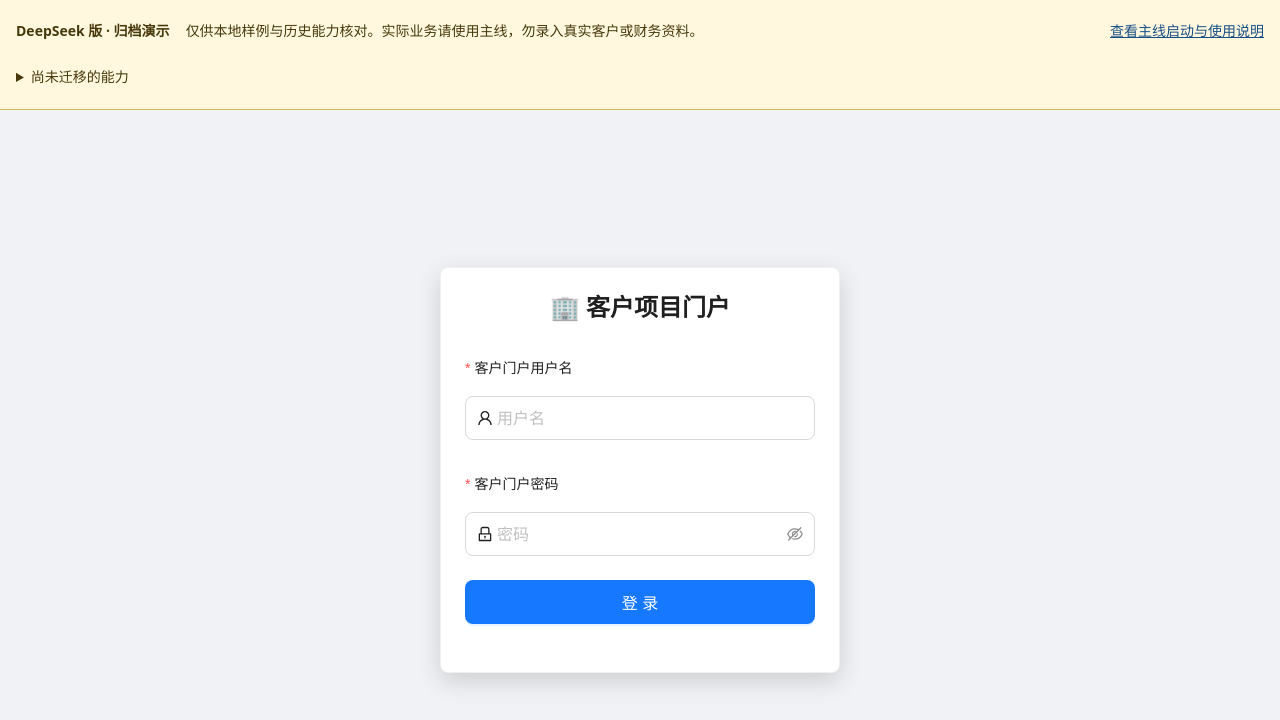
it: 真实 App 登录与门户入口的归档说明 › also appears on the separate portal login and retains unported capabilities
Expected: the field labelled "客户门户用户名" is shown, top-left (497, 404), bottom-right (803, 432)
Expected: the password field labelled "客户门户密码" is shown, top-left (497, 520), bottom-right (783, 548)
What coordinates should you click on to do the following:
click the heading "尚未迁移的能力"
I would click on:
 (80, 77)
Its box is top-left (31, 67), bottom-right (129, 86).
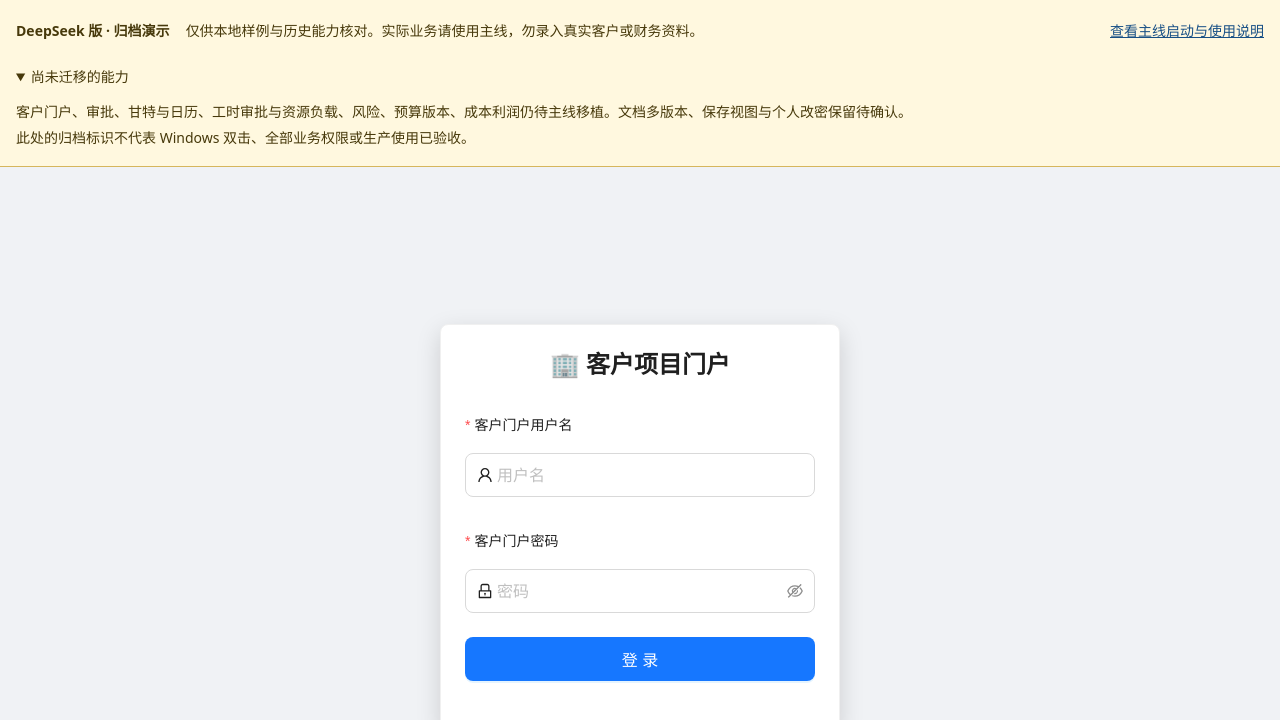
Expected: the text "文档多版本、保存视图与个人改密保留待确认" is shown, top-left (16, 102), bottom-right (912, 121)
Expected: the text "此处的归档标识不代表 Windows 双击、全部业务权限或生产使用已验收。" is shown, top-left (16, 128), bottom-right (475, 147)
